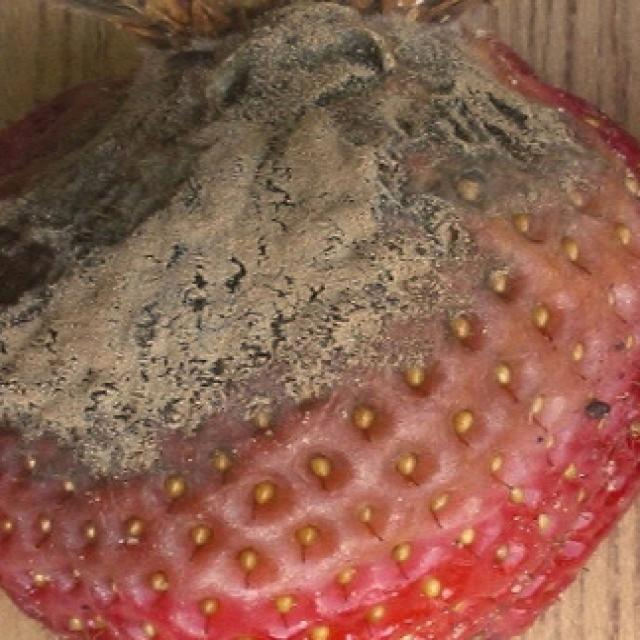Gray Mold: (0, 0, 640, 640)
